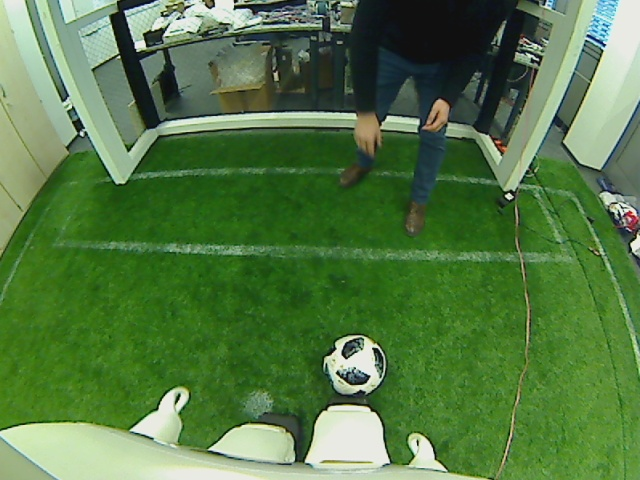ball: (321, 332, 389, 399)
